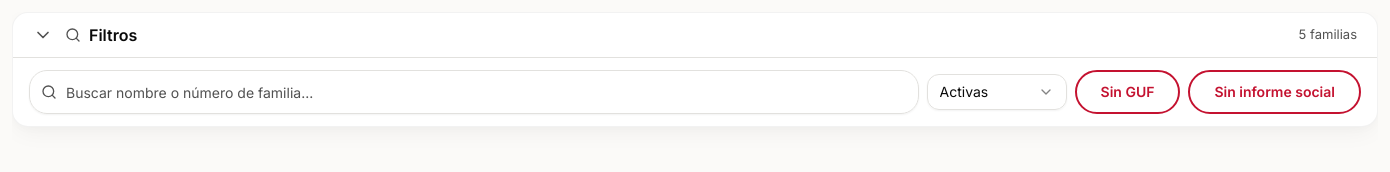
<FamiliasFilterBar /> › collapses when the header is clicked, hiding the controls
Click the button "Filtros 5 familias" at [113, 35], box left=13, top=13, right=1377, bottom=57
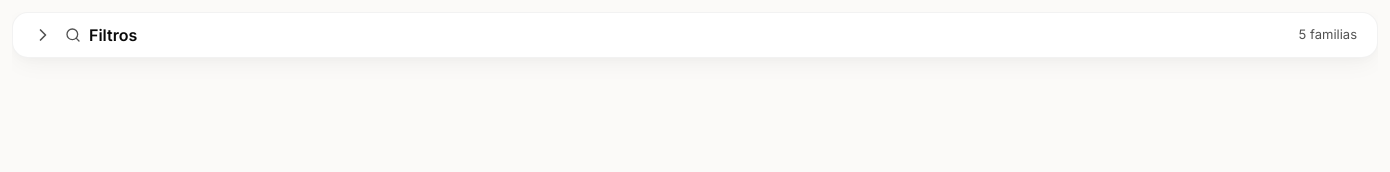
Check: the button "Filtros 5 familias" is collapsed, box left=13, top=13, right=1377, bottom=57
